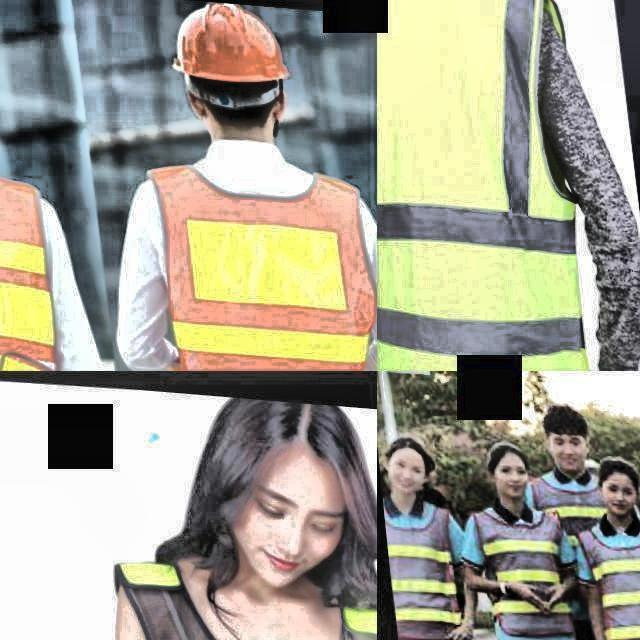safety_jacket: (377, 0, 592, 371), (140, 142, 369, 371), (114, 557, 377, 640), (468, 505, 572, 640), (0, 160, 65, 371), (379, 505, 460, 640), (582, 528, 640, 640)
